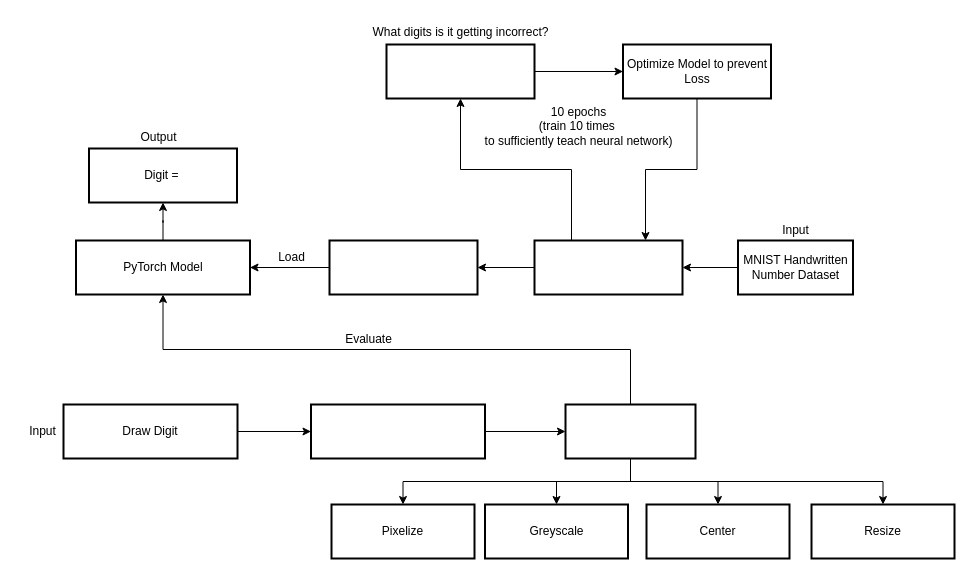
Image size: 972x576. Some labels were removed from this diagram. Here are the shapes that lost their labels. From the top down, the box of each, then its label:
(385, 43, 535, 99): Compute Loss
(328, 239, 478, 295): Convolutional Neural Network (CNN)
(533, 239, 683, 295): Train
(310, 403, 486, 459): Save as Image
(564, 403, 696, 459): Preprocess Image
